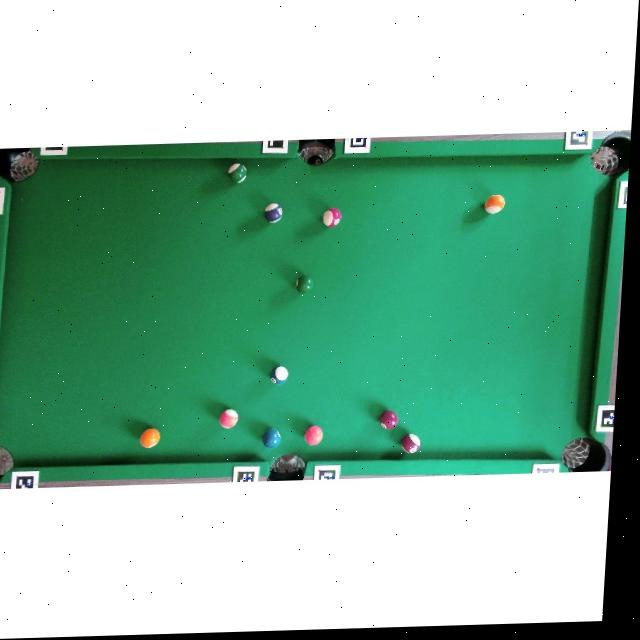other: (400, 433, 421, 454), (140, 428, 161, 449), (484, 194, 505, 214), (322, 207, 342, 228), (219, 408, 239, 429), (228, 163, 248, 184), (262, 428, 282, 448), (304, 425, 323, 446), (379, 410, 398, 430), (264, 203, 283, 223), (270, 366, 289, 384), (295, 276, 314, 293)
